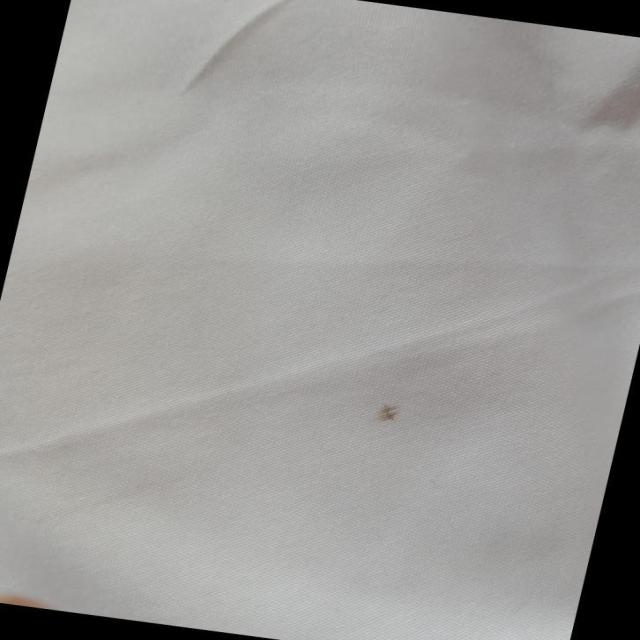stain: (0, 570, 75, 612), (359, 390, 420, 437)
